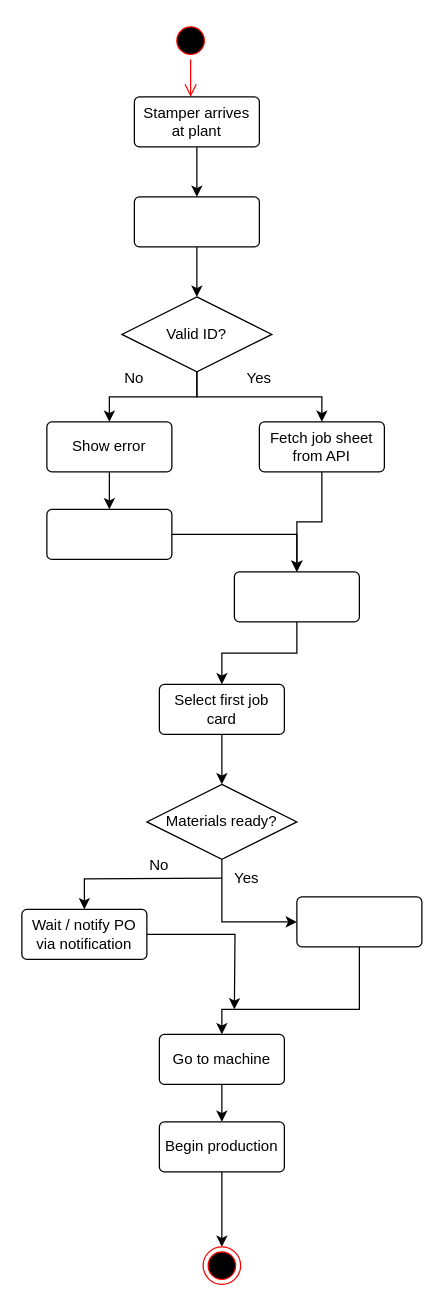
Some shapes in this 444 by 1306 pixel diagram are drawn without their labels. Here are the shapes that lost their labels. From the top down, the centre of each, then its label:
point 196,221: Enter Employee ID on clock-in screen
point 109,533: Retry
point 296,596: Display daily job sheet
point 359,921: Toggle Materials Ready on job card
